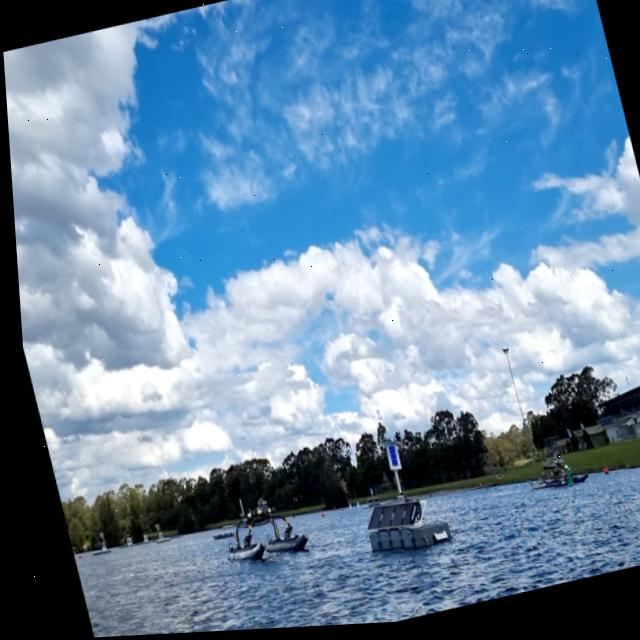led: (380, 447, 392, 471)
